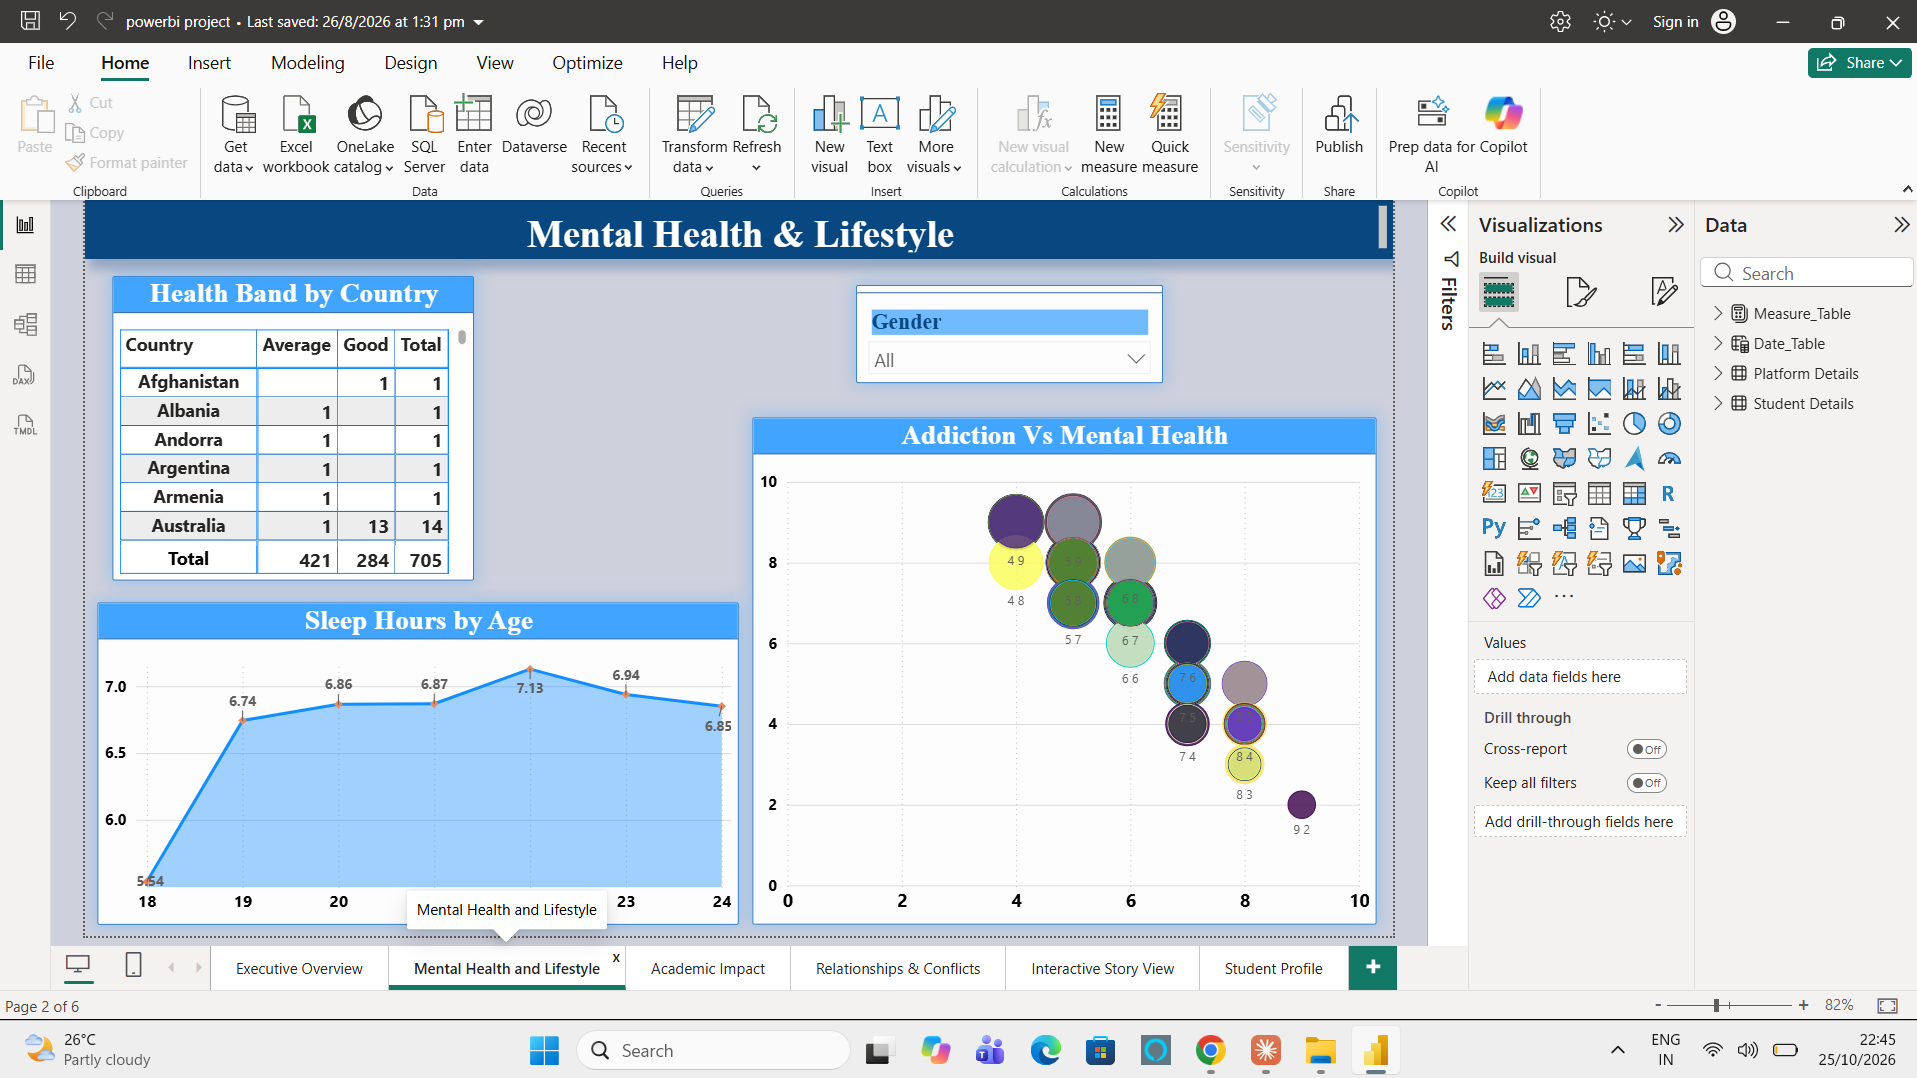

Layout of this report page (visuals, bound fields, positions):
{"tool":"powerbi","page":{"name":"Page 2","canvas":[1280,720],"ordinal":1},"visuals":[{"type":"pivotTable","title":"Health Band by Country","fields":{"Rows":["Student Details.Country"],"Columns":["Student Details.Health Band"],"Values":["CountNonNull(Student Details.Student_ID)"]},"box":[27.5,75,353.8,297.5],"z":0},{"type":"scatterChart","title":" Addiction Vs Mental Health","fields":{"X":["Student Details.Mental_Health_Score"],"Size":["Measure_Table.Avg Usage Hours"],"Series":["Student Details.Country"],"Y":["Student Details.Addicted_Score"]},"box":[652.5,212.5,610,496.2],"z":1000},{"type":"lineChart","title":"Sleep Hours by Age","fields":{"Y":["Avg(Student Details.Sleep_Hours_Per_Night)"],"Category":["Student Details.Age"]},"box":[12.5,393.8,627.5,315],"z":2000},{"type":"textbox","box":[0,0,1280,57.5],"z":3000},{"type":"slicer","fields":{"Values":["Student Details.Gender"]},"box":[755,83.8,300,96.2],"z":4000}]}

Visuals, with their boxes on the page's 1280x720 design canvas (x1, y1, x2, y2). These are canvas units, not pixel positions in the 1917x1078 screenshot, which may show the page scaled, cropped or inside an application window:
"Health Band by Country" pivotTable: x1=28, y1=75, x2=381, y2=372
" Addiction Vs Mental Health" scatterChart: x1=652, y1=212, x2=1262, y2=709
"Sleep Hours by Age" lineChart: x1=12, y1=394, x2=640, y2=709
textbox: x1=0, y1=0, x2=1280, y2=58
slicer - Student Details.Gender: x1=755, y1=84, x2=1055, y2=180
